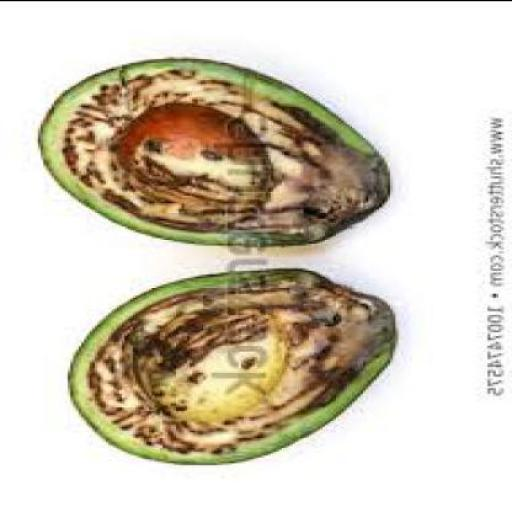biodegradable: (35, 54, 387, 244), (65, 265, 393, 462), (108, 100, 268, 194)
